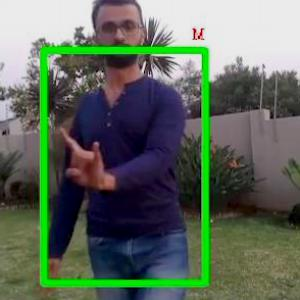takeoff-hand: (54, 121, 107, 195)
